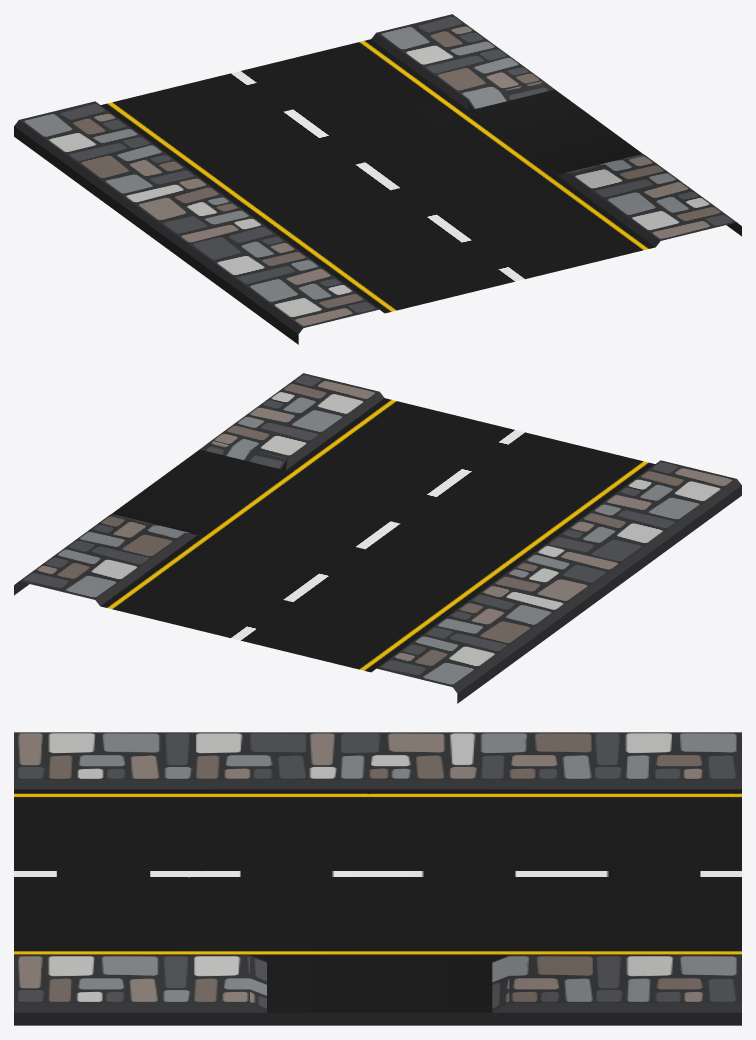
File: Road_Straight_1Driveway.fbx
3 renders of one model, top to bottom at view 1: azimuth 30°, elevation 25°; view 2: azimuth 150°, elevation 25°; view 3: azimuth 270°, elevation 25°, orthographic. The views are drawn at different scales.
Visible parts, largest first — view 1: Road_Straight_1Driveway; view 2: Road_Straight_1Driveway; view 3: Road_Straight_1Driveway.
Part boxes in pixels (box(x1,y1,x2,y2)): Road_Straight_1Driveway: box(14, 14, 741, 344); Road_Straight_1Driveway: box(14, 373, 741, 703); Road_Straight_1Driveway: box(14, 732, 741, 1025).
Size of the model in its own units: 900 by 30 by 1000.
